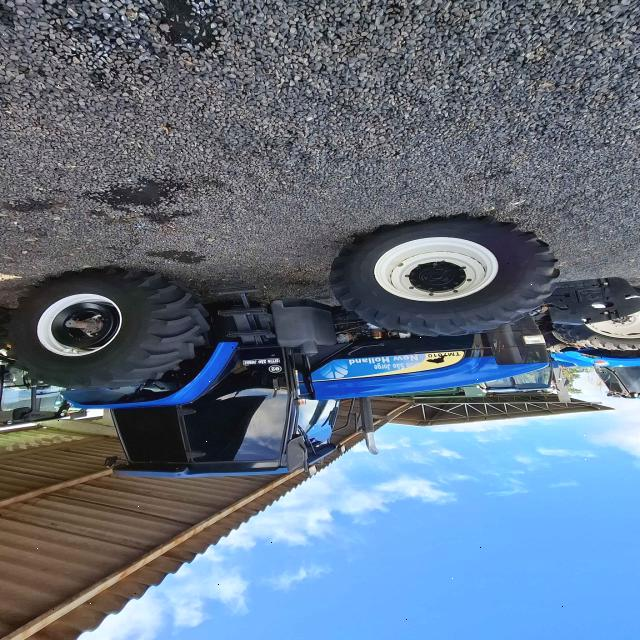Tratores - v5 YOLO V8L 2024-11-13: (16, 212, 570, 482)
